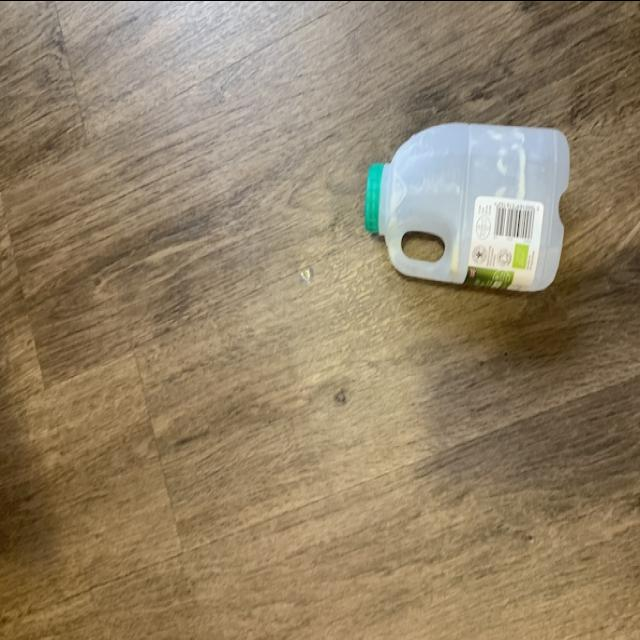HDPEM: (364, 112, 578, 294)
